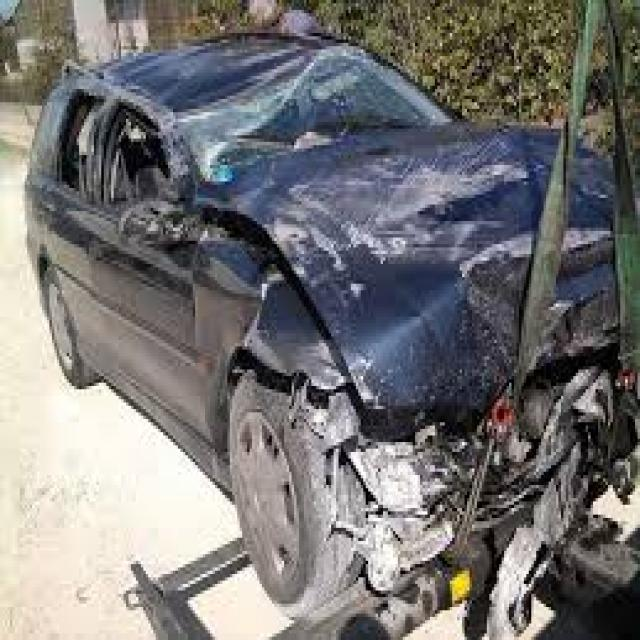severe: (57, 71, 629, 528)
